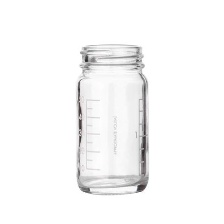bottle: (72, 41, 153, 197)
